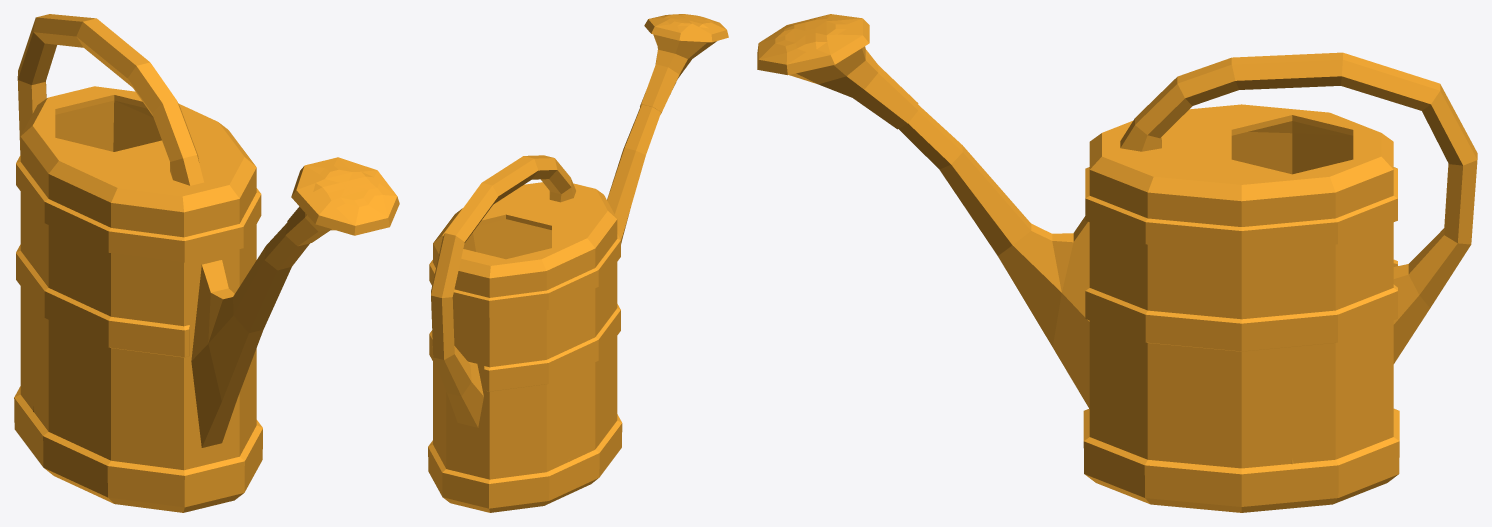
File: SM_Can_Watering_Plastic_B.fbx
3 views of the same model, side by side, from view 1: azimuth 30°, elevation 25°; view 2: azimuth 150°, elevation 25°; view 3: azimuth 270°, elevation 25° (orthographic). The views are drawn at different scales.
Visible parts, largest first — view 1: can-watering-plastic-b; view 2: can-watering-plastic-b; view 3: can-watering-plastic-b.
Part boxes in pixels (x1,y1,x2,y2): can-watering-plastic-b: [14, 14, 399, 512]; can-watering-plastic-b: [428, 14, 728, 512]; can-watering-plastic-b: [757, 14, 1477, 512].
Size of the model in its own units: 0.2495 by 0.534 by 0.7858.
